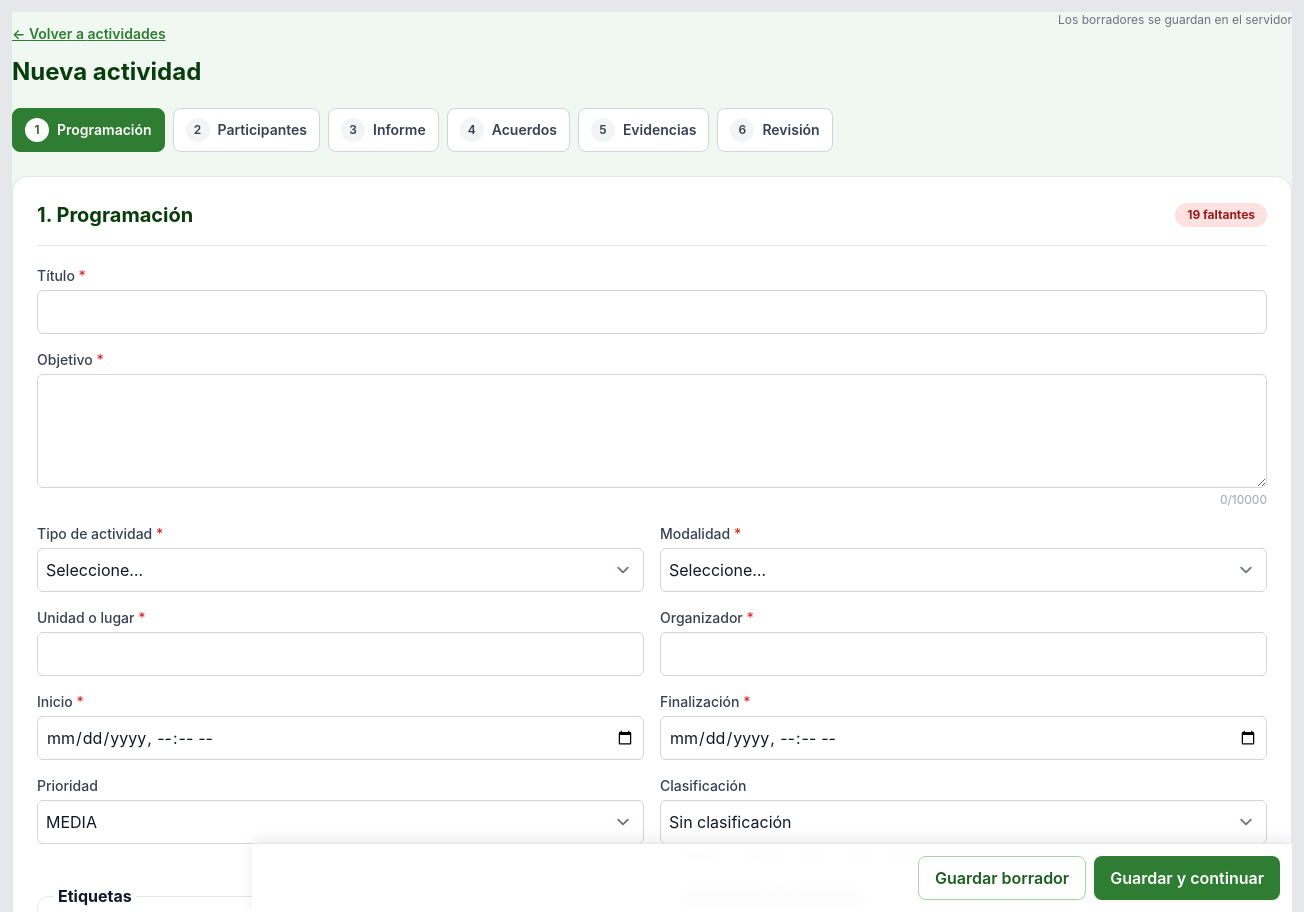
Scenario: wizard de Bitácora › carga catálogos nominales y evita pedir IDs manuales
Click the button "2 Participantes" at coordinates (246, 130), box top-left (173, 108), bottom-right (320, 152)
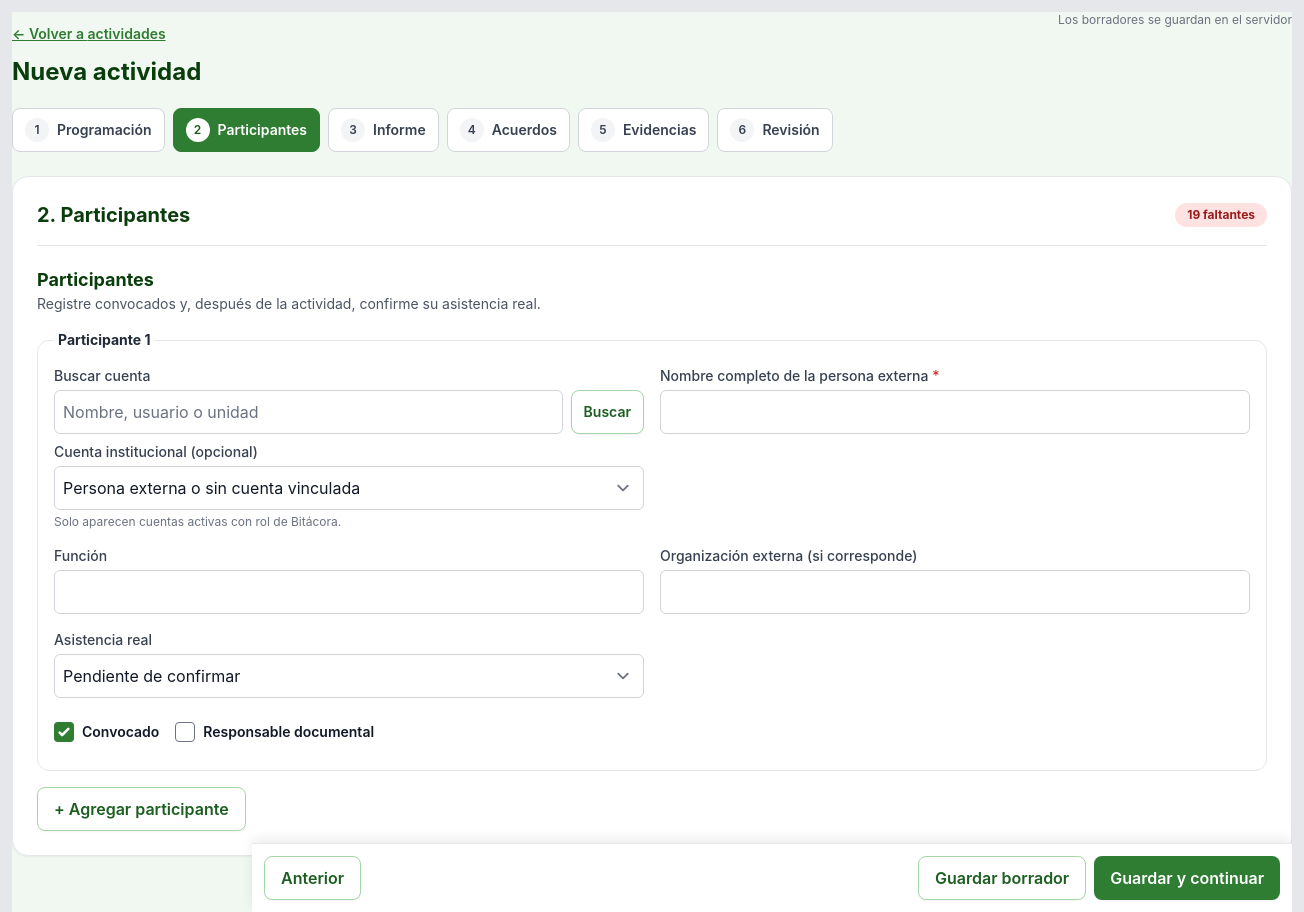
Check: the dropdown labelled "Cuenta institucional (opcional)" is shown, box top-left (54, 466), bottom-right (644, 510)
